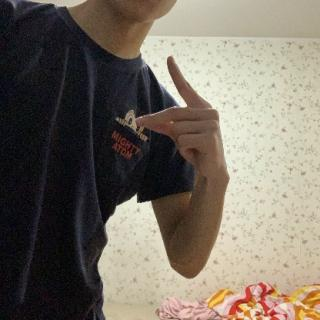TAA: (128, 50, 232, 186)
